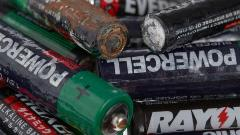electronic: (1, 24, 135, 135)
